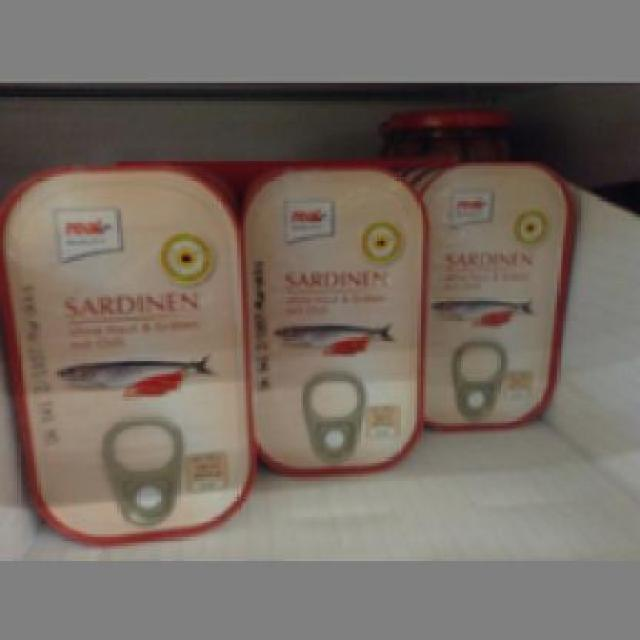Fish: (0, 163, 257, 543), (240, 157, 426, 474), (420, 160, 574, 429)
